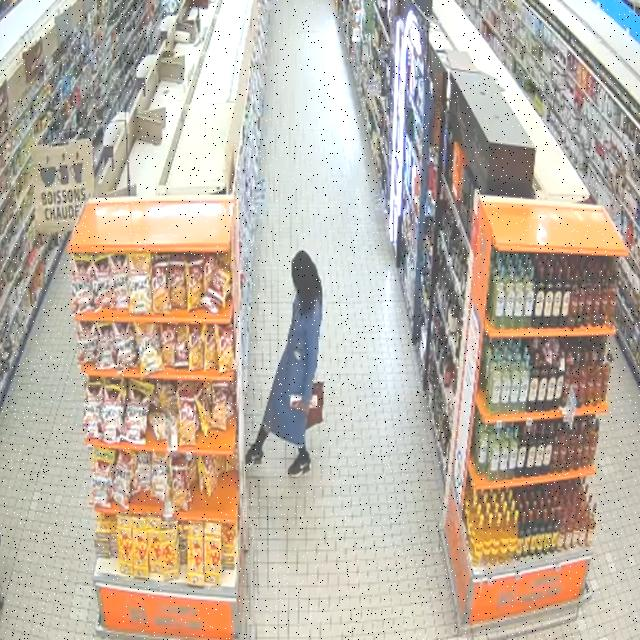article: (290, 393, 303, 408)
bags: (307, 382, 324, 429)
hands: (297, 401, 310, 415)
person: (246, 251, 322, 477)
